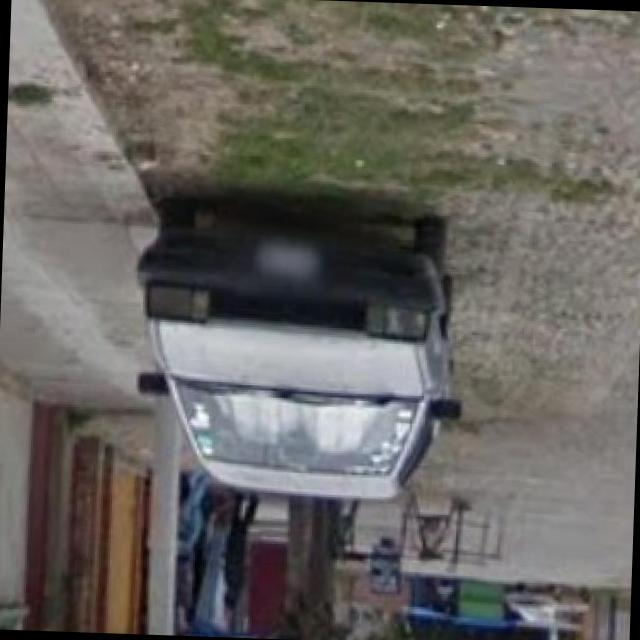car: (144, 198, 468, 507)
